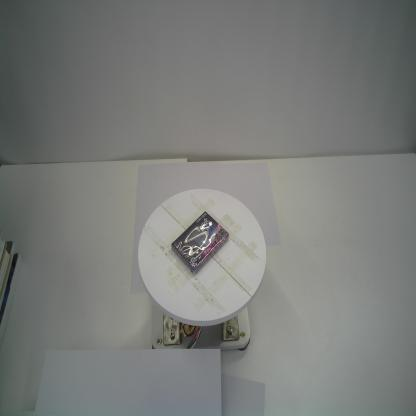Gum: (172, 209, 230, 280)
